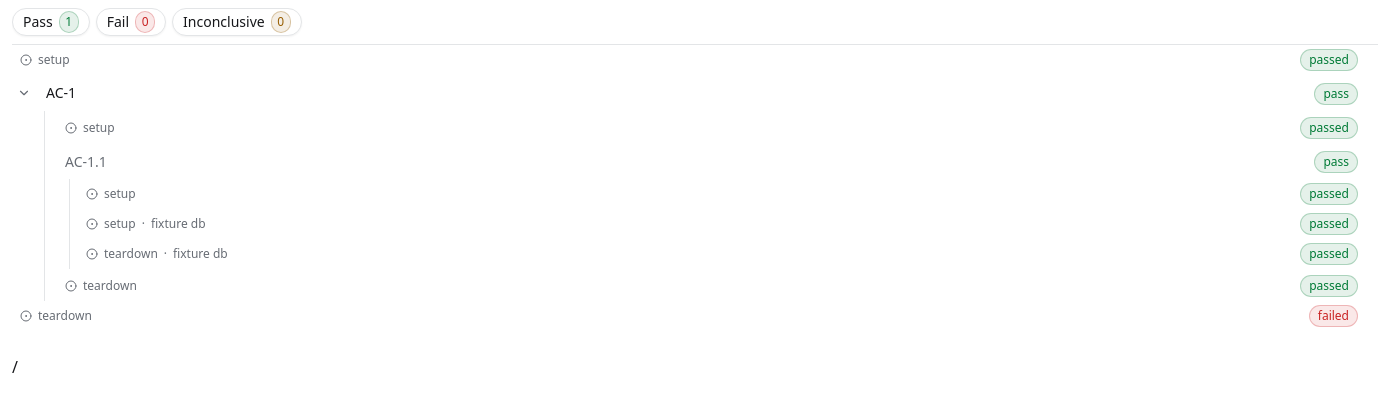
Test: lifecycle navigation › lists every scope at its level with status and opens check blocks by URL
This screenshot has width=1378, height=395.
Click the link with test id "lifecycle-rail-row" below "AC-1.1".
click(120, 194)  # box [78,179,1366,209]
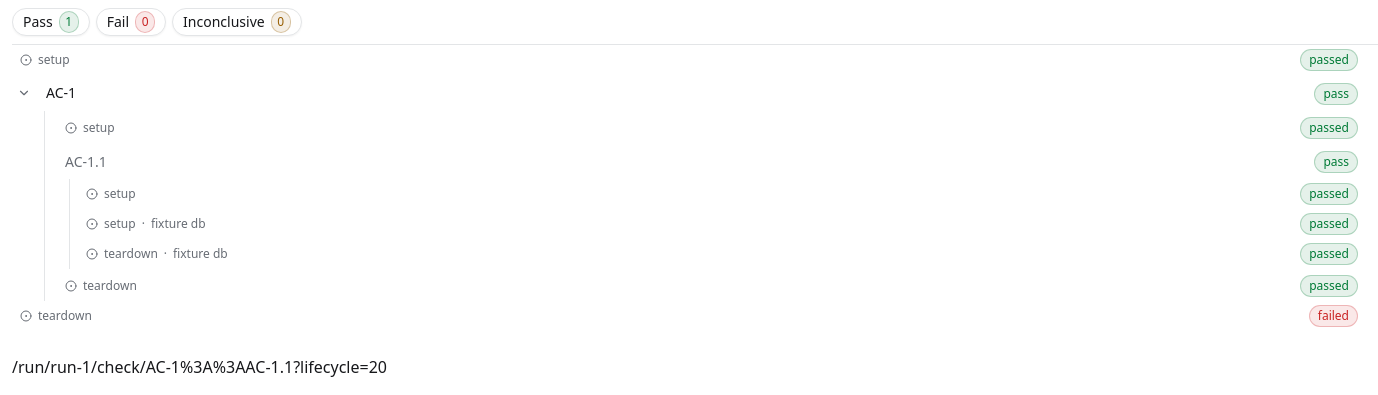
Click the link with test id "lifecycle-rail-row" showing "teardown failed".
click(65, 316)  # box [12,301,1366,331]
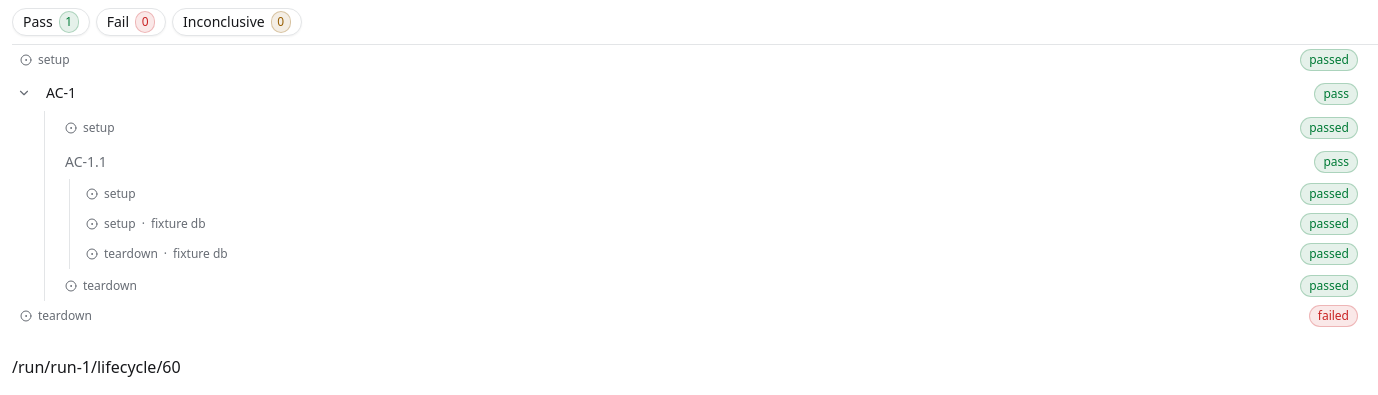
Now the text with test id "location" reads "/run/run-1/lifecycle/60", box [12,356,181,378]
